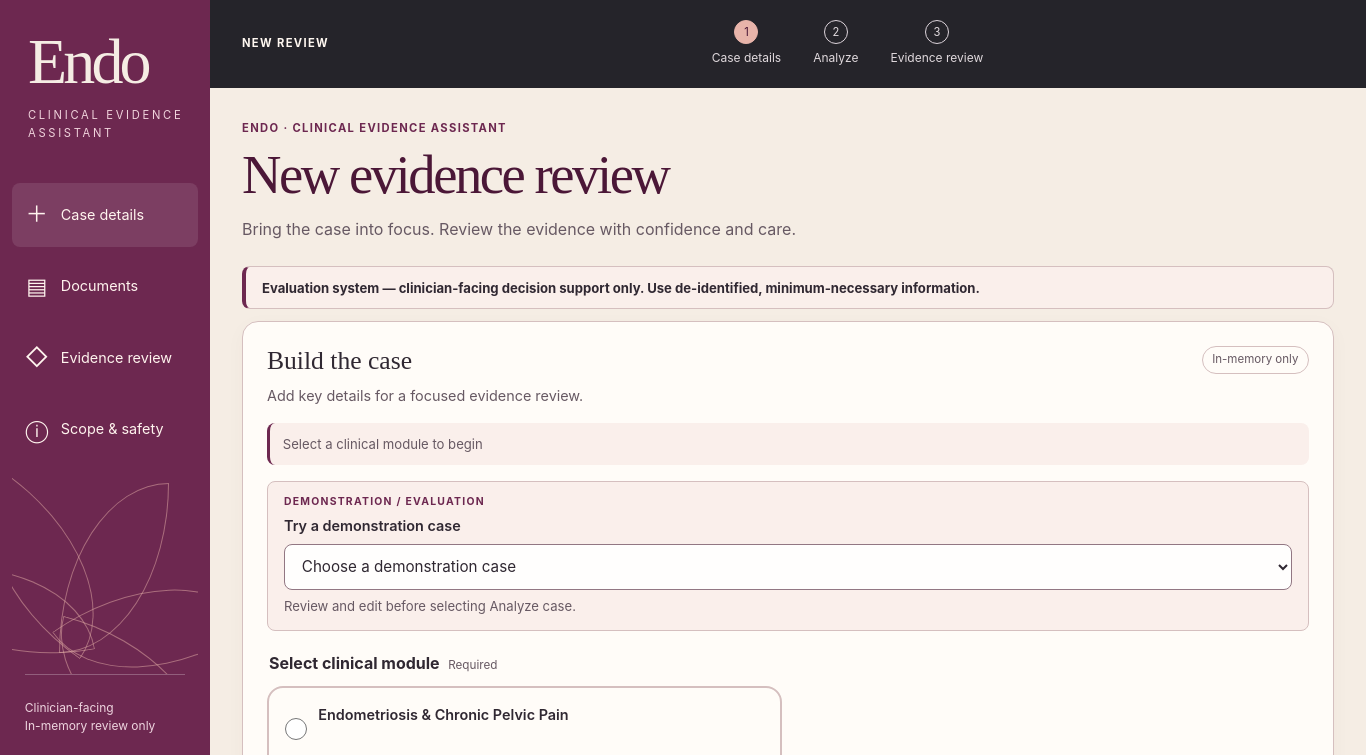
Test case: case-specific visual findings › Clear prevents a late native fingerprint from restoring the response
Click the radio button showing "module_01_endo" at [296, 729], box x1=285 y1=706 x2=307 y2=752
(page scrolled)
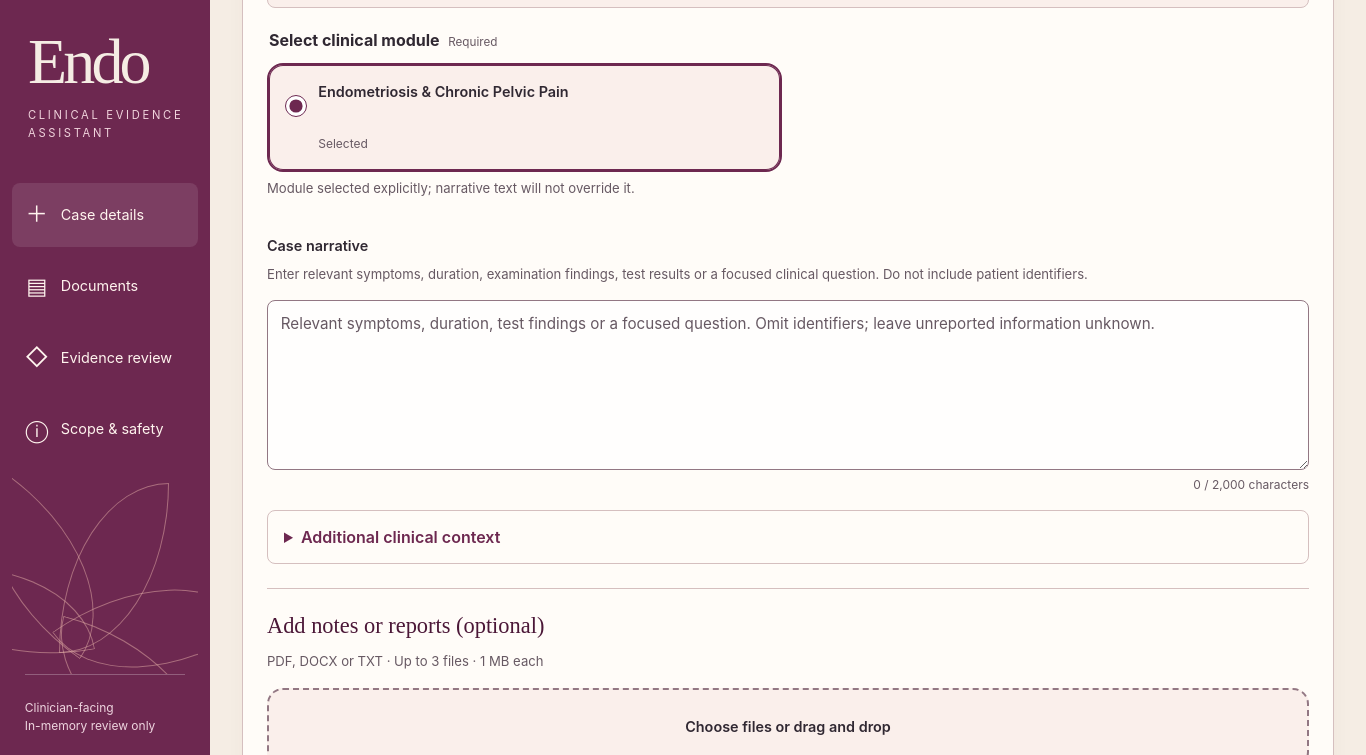
Replace the text in the text box labelled "Case narrative" with "Recurrent pelvic discomfort." at [788, 385], box x1=267 y1=300 x2=1309 y2=470
(page scrolled)
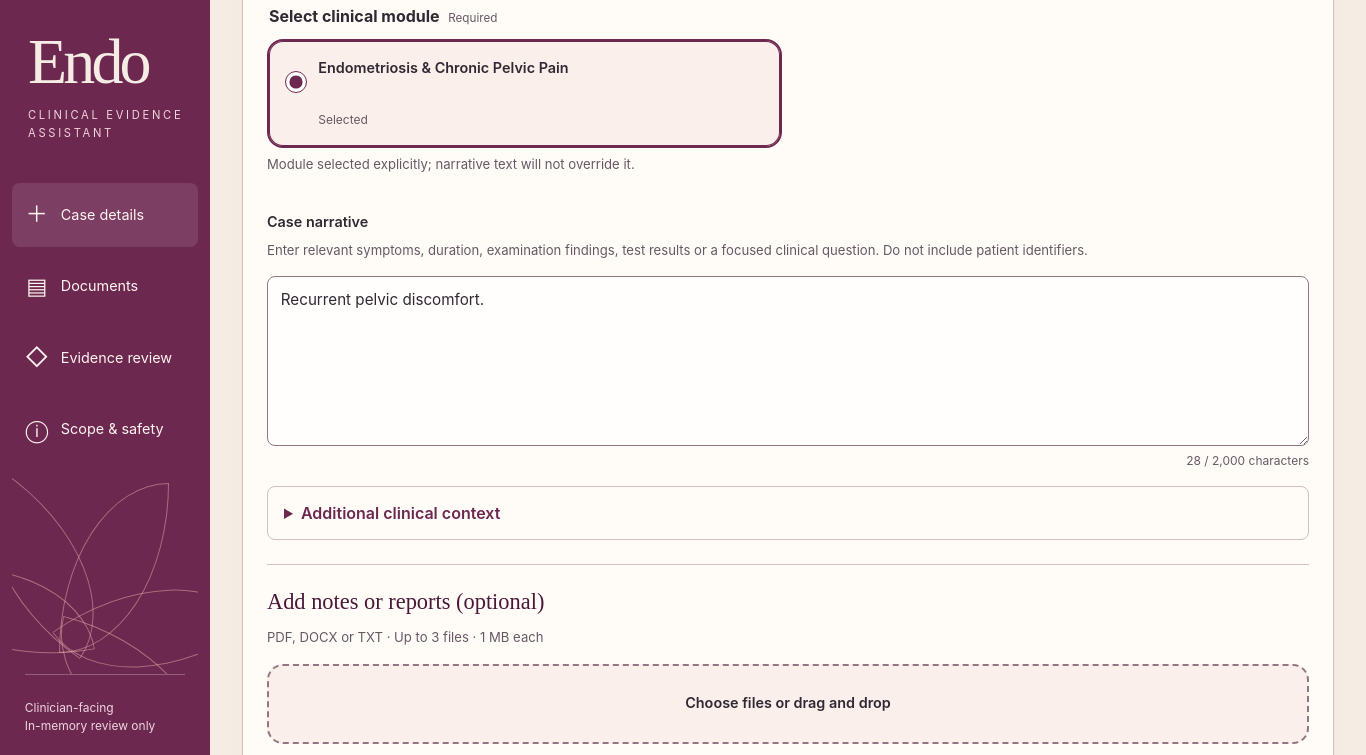
Submit the form with id "caseForm"
(page scrolled)
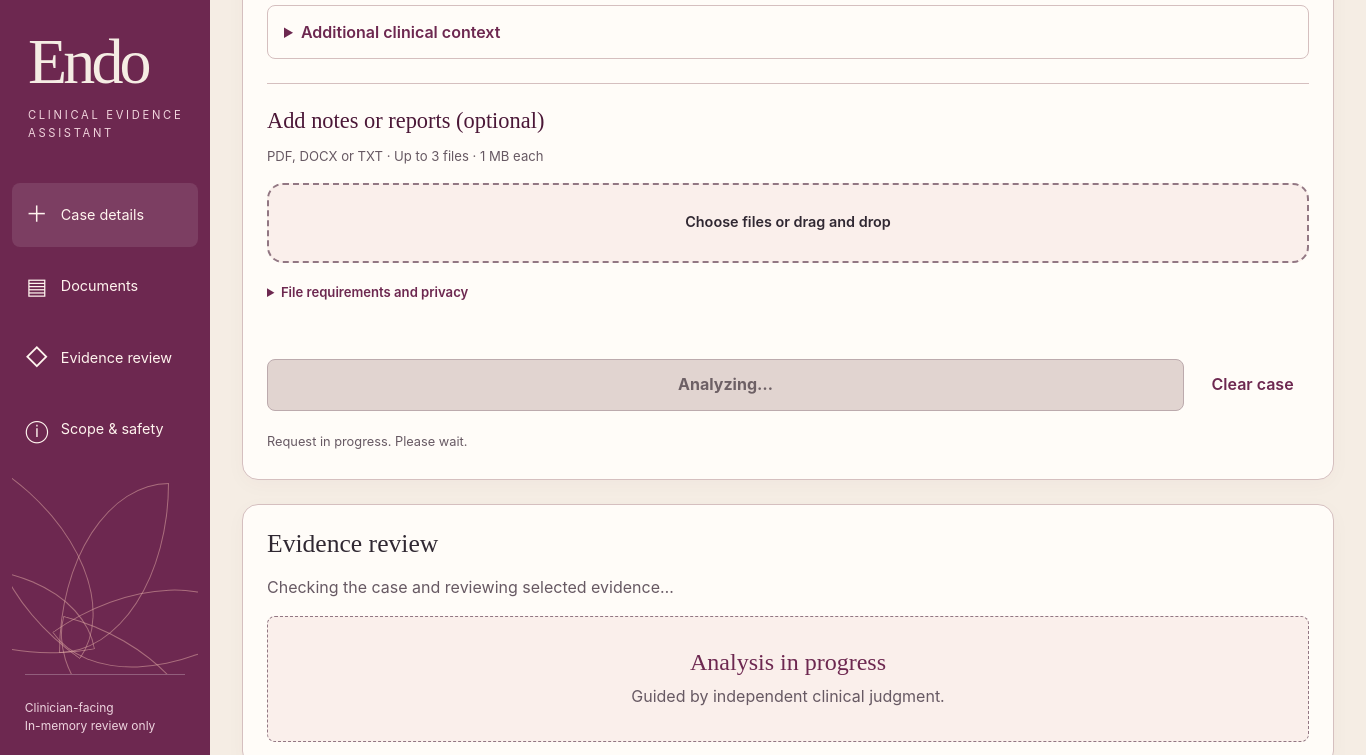
Click the button "Clear case" at [1253, 384], box x1=1196 y1=358 x2=1309 y2=410
(page scrolled)
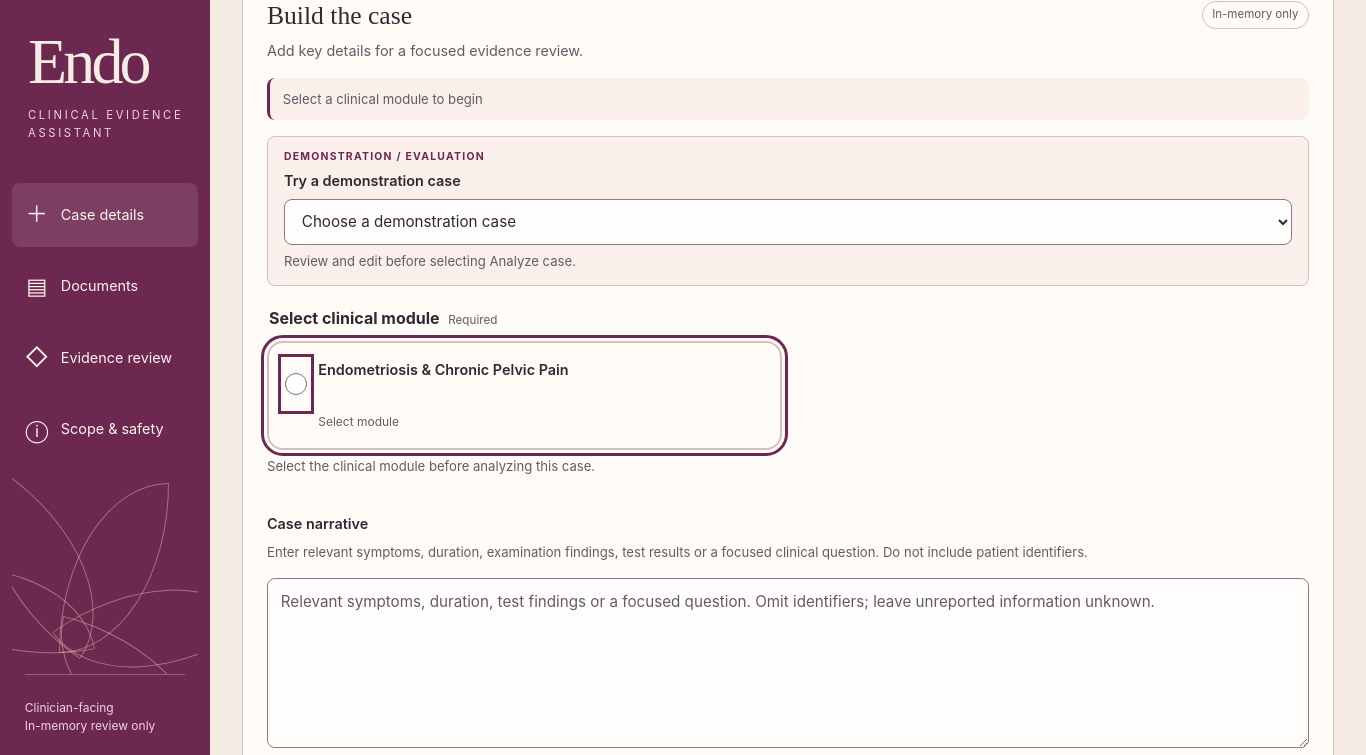
Expected: the text box labelled "Case narrative" is empty, x1=267 y1=578 x2=1309 y2=748
